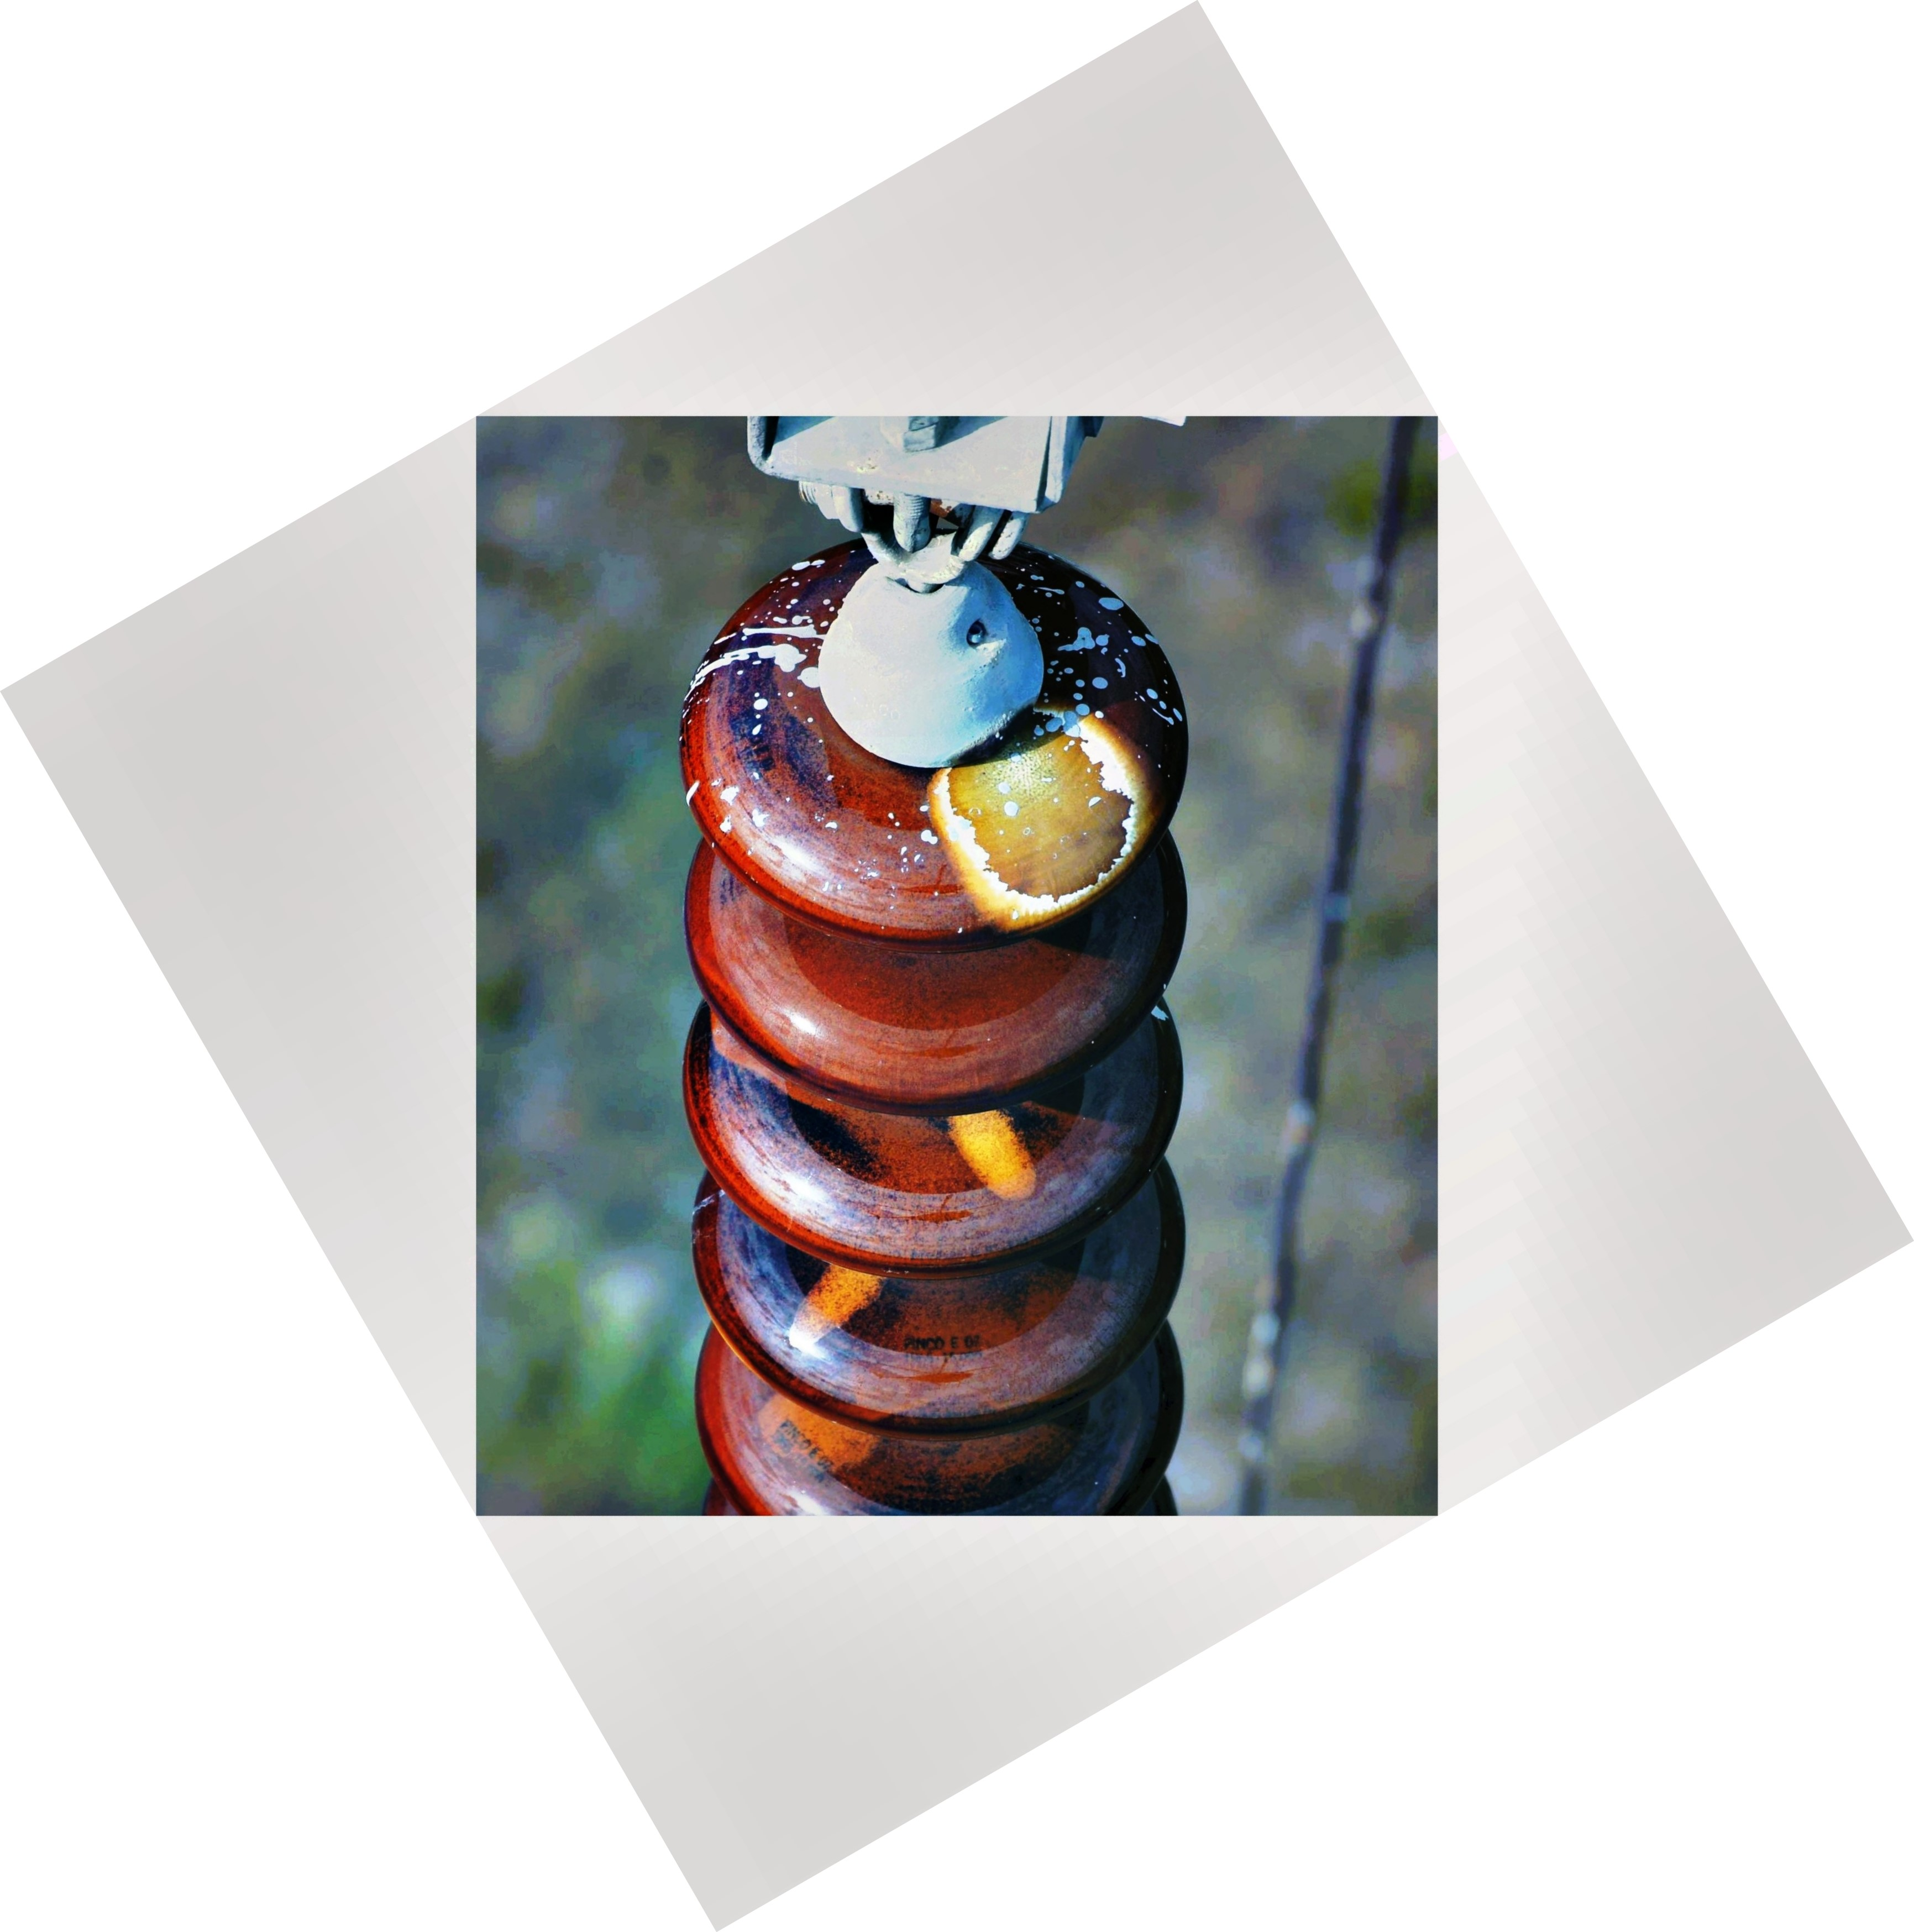Insulator flashover: (650, 507, 1218, 959)
